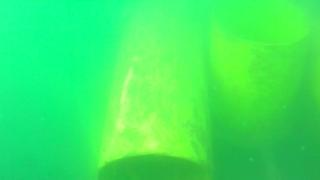pipe: (95, 6, 213, 179), (208, 1, 314, 152), (314, 1, 320, 146)
